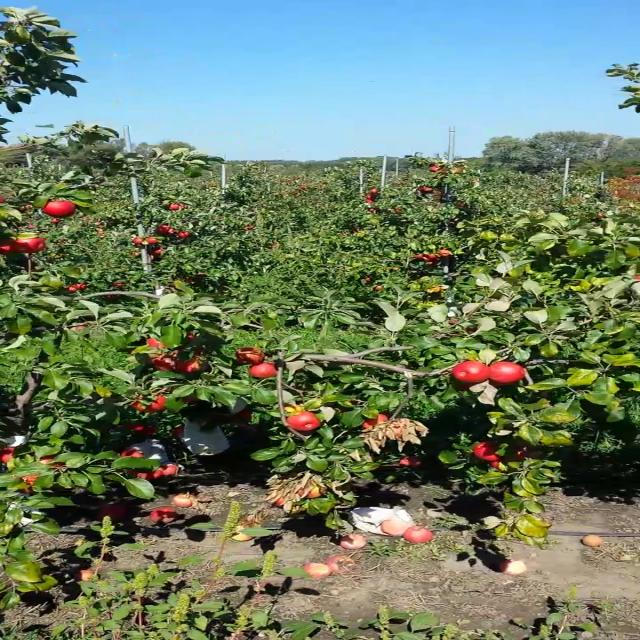apple: (484, 362, 524, 386), (451, 359, 489, 383), (284, 411, 322, 432), (130, 393, 170, 411), (499, 442, 529, 463), (471, 441, 502, 461), (292, 482, 326, 498), (44, 200, 74, 218), (14, 237, 46, 253), (116, 448, 148, 464), (235, 346, 262, 364), (360, 414, 389, 430), (249, 362, 277, 378), (122, 423, 154, 437), (36, 455, 68, 469), (154, 353, 178, 371), (178, 357, 205, 371), (0, 446, 17, 466), (131, 468, 161, 479), (158, 464, 180, 478), (20, 472, 42, 486), (171, 346, 200, 356), (148, 335, 172, 347), (177, 333, 198, 346), (1, 238, 15, 254), (282, 404, 305, 412), (239, 408, 251, 420), (488, 460, 500, 470)
